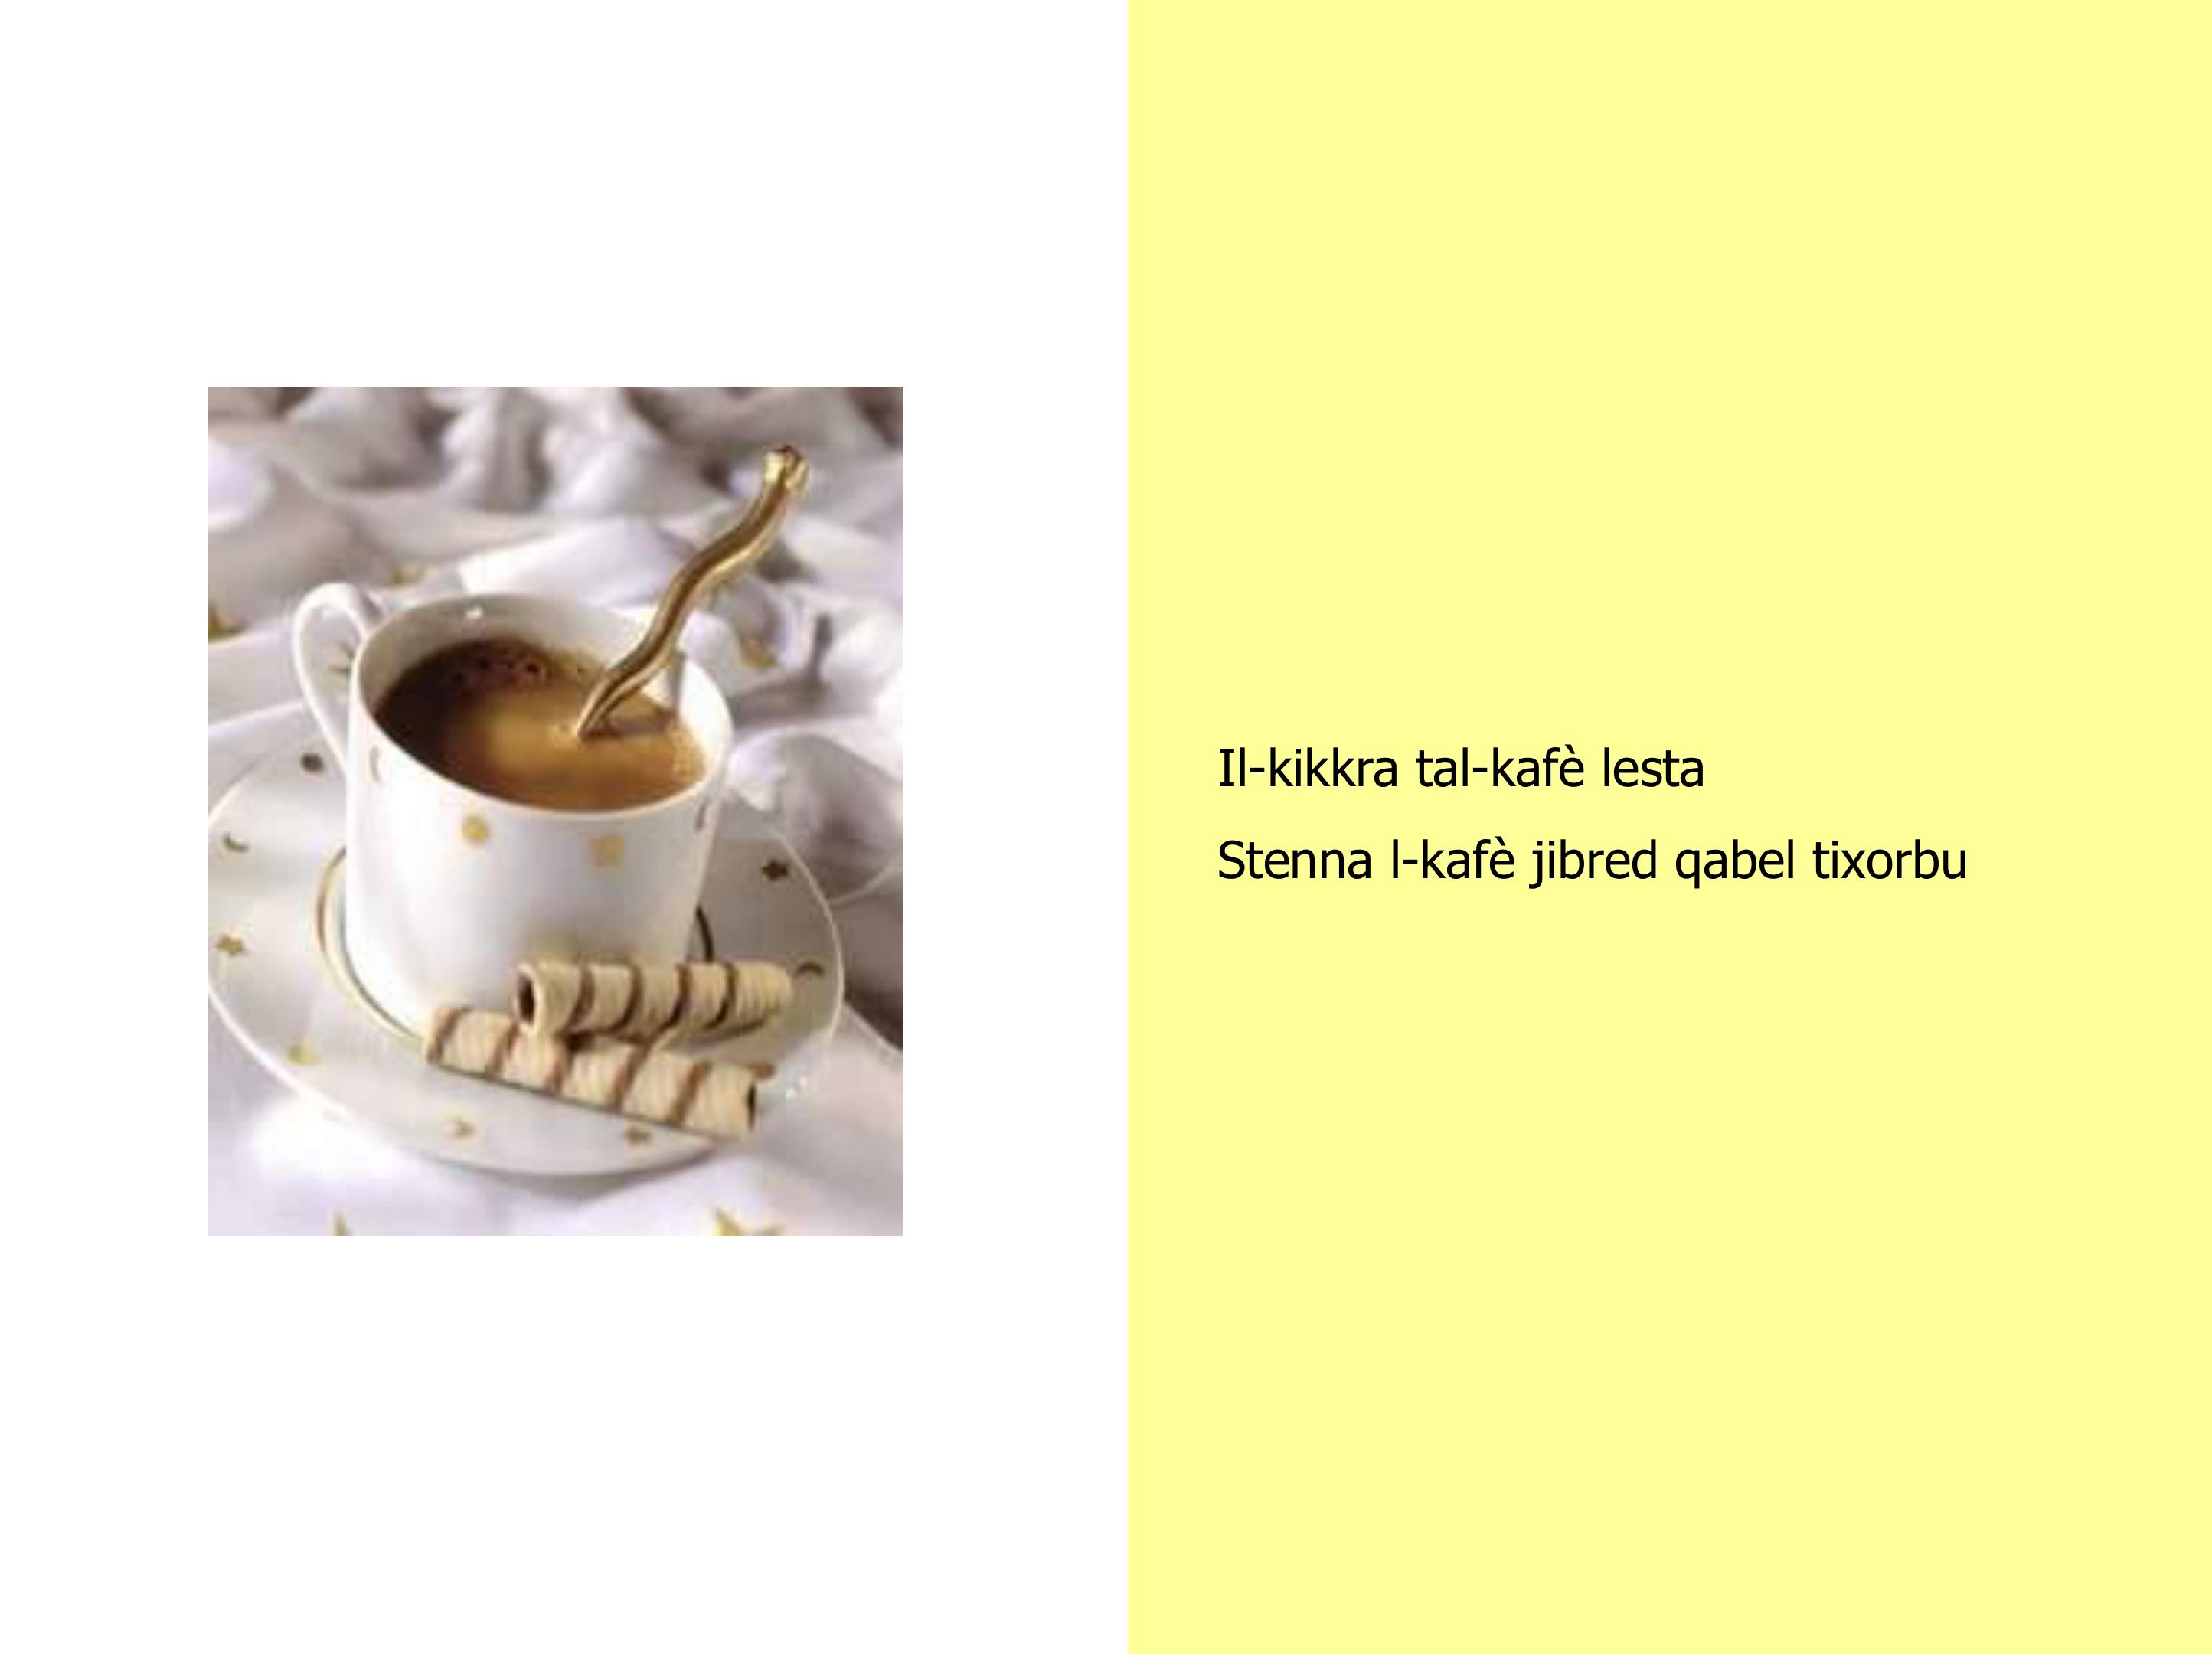text: (1191, 727, 1998, 908)
